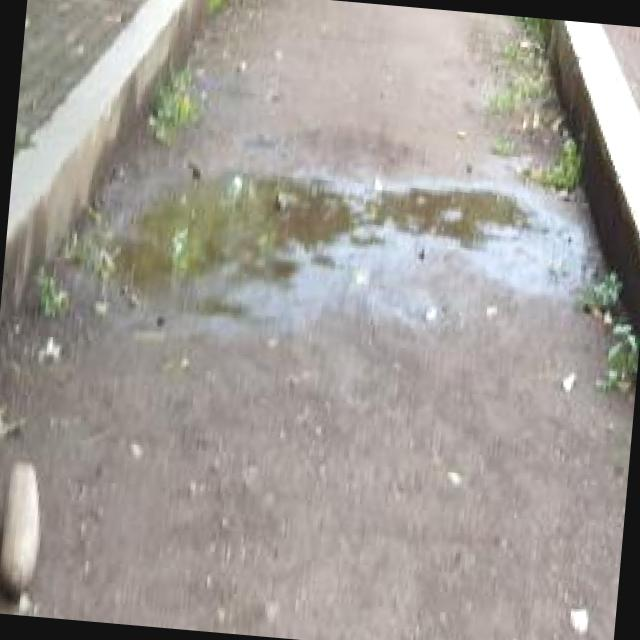waterlogging: (104, 132, 584, 356)
